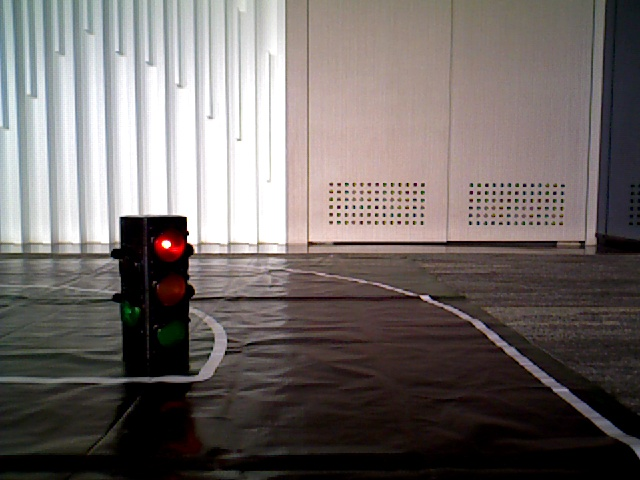red: (134, 220, 192, 367)
